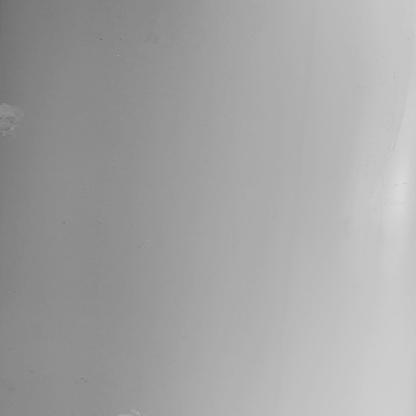sunshang: (1, 96, 31, 139)
